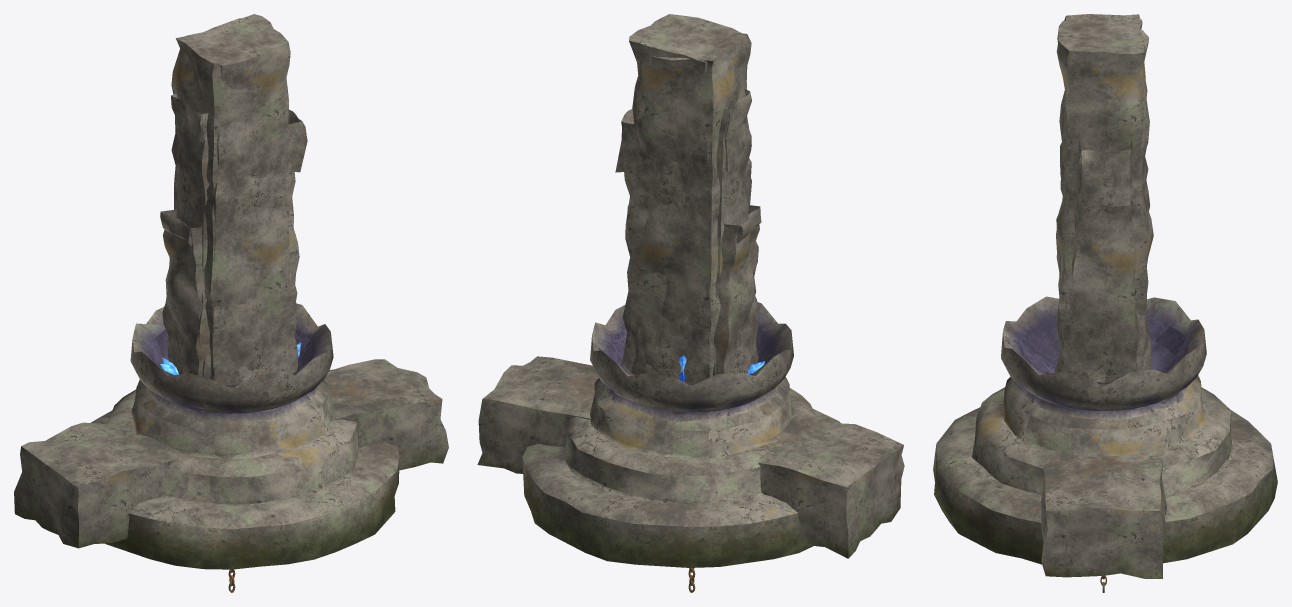
File: sanctuary_kit.glb
3 renders of one model, left to right at view 1: azimuth 30°, elevation 25°; view 2: azimuth 150°, elevation 25°; view 3: azimuth 270°, elevation 25°, orthographic.
Visible parts, largest first — view 1: Altar, Lintel, Post_B, Post_A, Menhir_A, Menhir_D, Menhir_C; view 2: Altar, Lintel, Post_B, Post_A, Menhir_A, Menhir_D, Menhir_C; view 3: Altar, Post_A, Lintel, Menhir_C, Post_B.
Part boxes in pixels (bbox=[...]): Altar: bbox=[90, 303, 399, 569]; Lintel: bbox=[14, 359, 448, 548]; Post_B: bbox=[171, 31, 290, 413]; Post_A: bbox=[185, 14, 297, 412]; Menhir_A: bbox=[160, 209, 210, 412]; Menhir_D: bbox=[171, 94, 209, 346]; Menhir_C: bbox=[202, 109, 307, 412]; Altar: bbox=[522, 302, 840, 567]; Lintel: bbox=[477, 356, 904, 558]; Post_B: bbox=[629, 32, 758, 413]; Post_A: bbox=[626, 14, 751, 412]; Menhir_A: bbox=[712, 205, 761, 411]; Menhir_D: bbox=[716, 89, 757, 358]; Menhir_C: bbox=[615, 109, 715, 375]; Altar: bbox=[933, 296, 1277, 564]; Post_A: bbox=[1055, 19, 1152, 410]; Lintel: bbox=[1040, 400, 1166, 578]; Menhir_C: bbox=[1067, 140, 1139, 411]; Post_B: bbox=[1056, 14, 1153, 409].
Bounding box in the file's own units: 3.65 × 5.17 × 2.87.
Materials: 4 (4 with a texture image).
